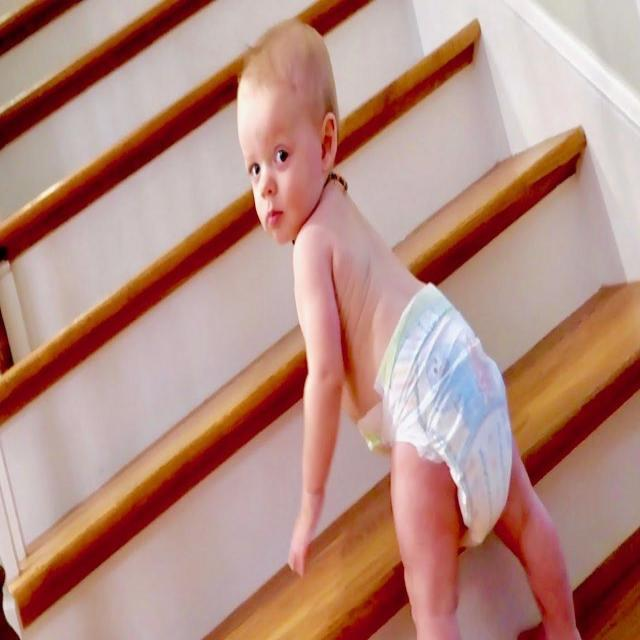child: (227, 16, 587, 640)
